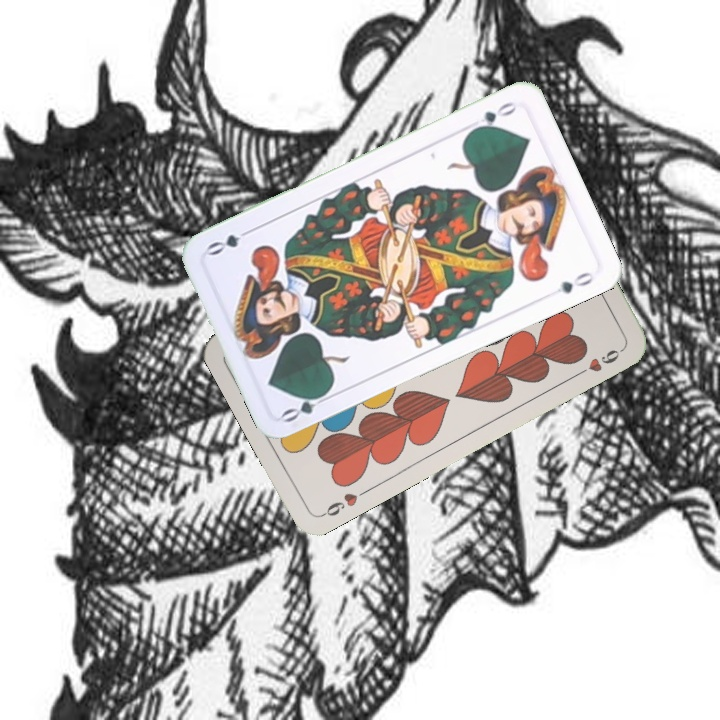GO: (278, 386, 335, 425), (467, 97, 519, 135)
H9: (317, 485, 371, 520)
